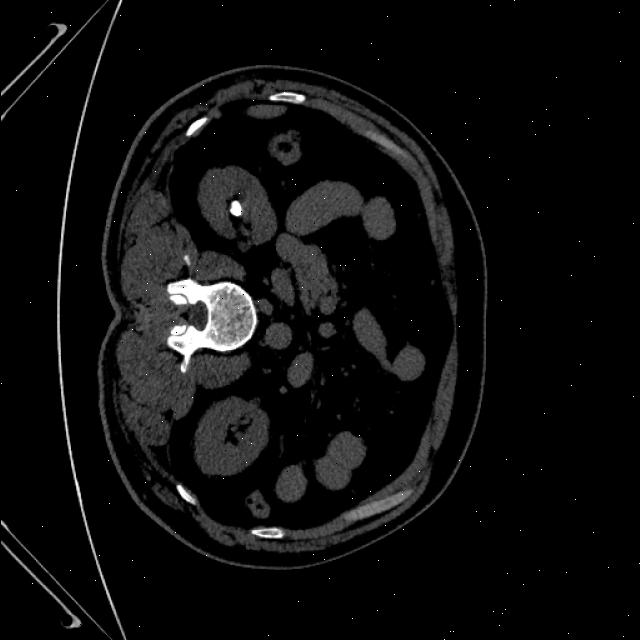kidneystone: (228, 200, 242, 218)
